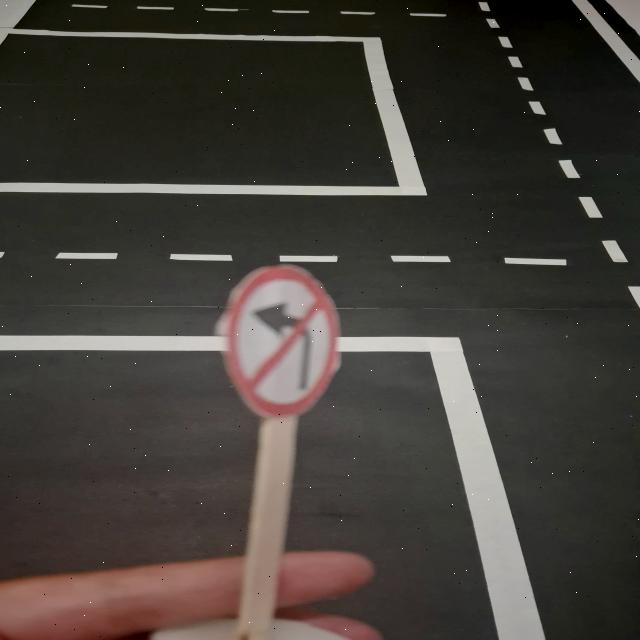Dilarang Belok Kiri: (223, 266, 341, 418)
